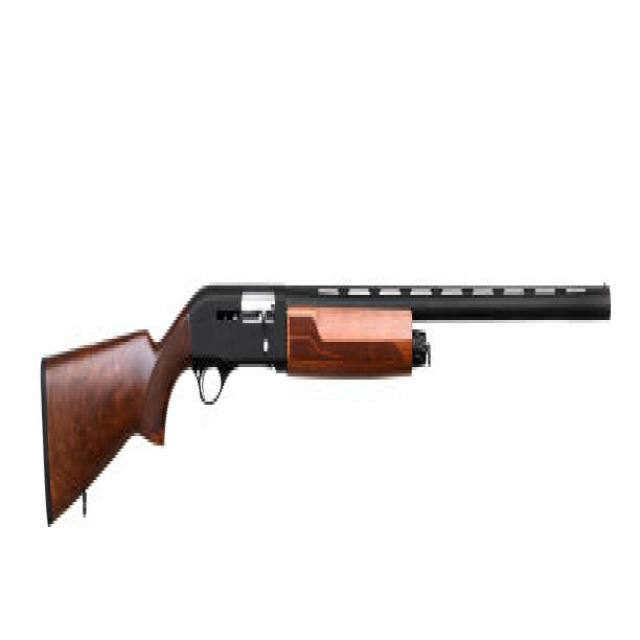rifle: (38, 269, 615, 552)
